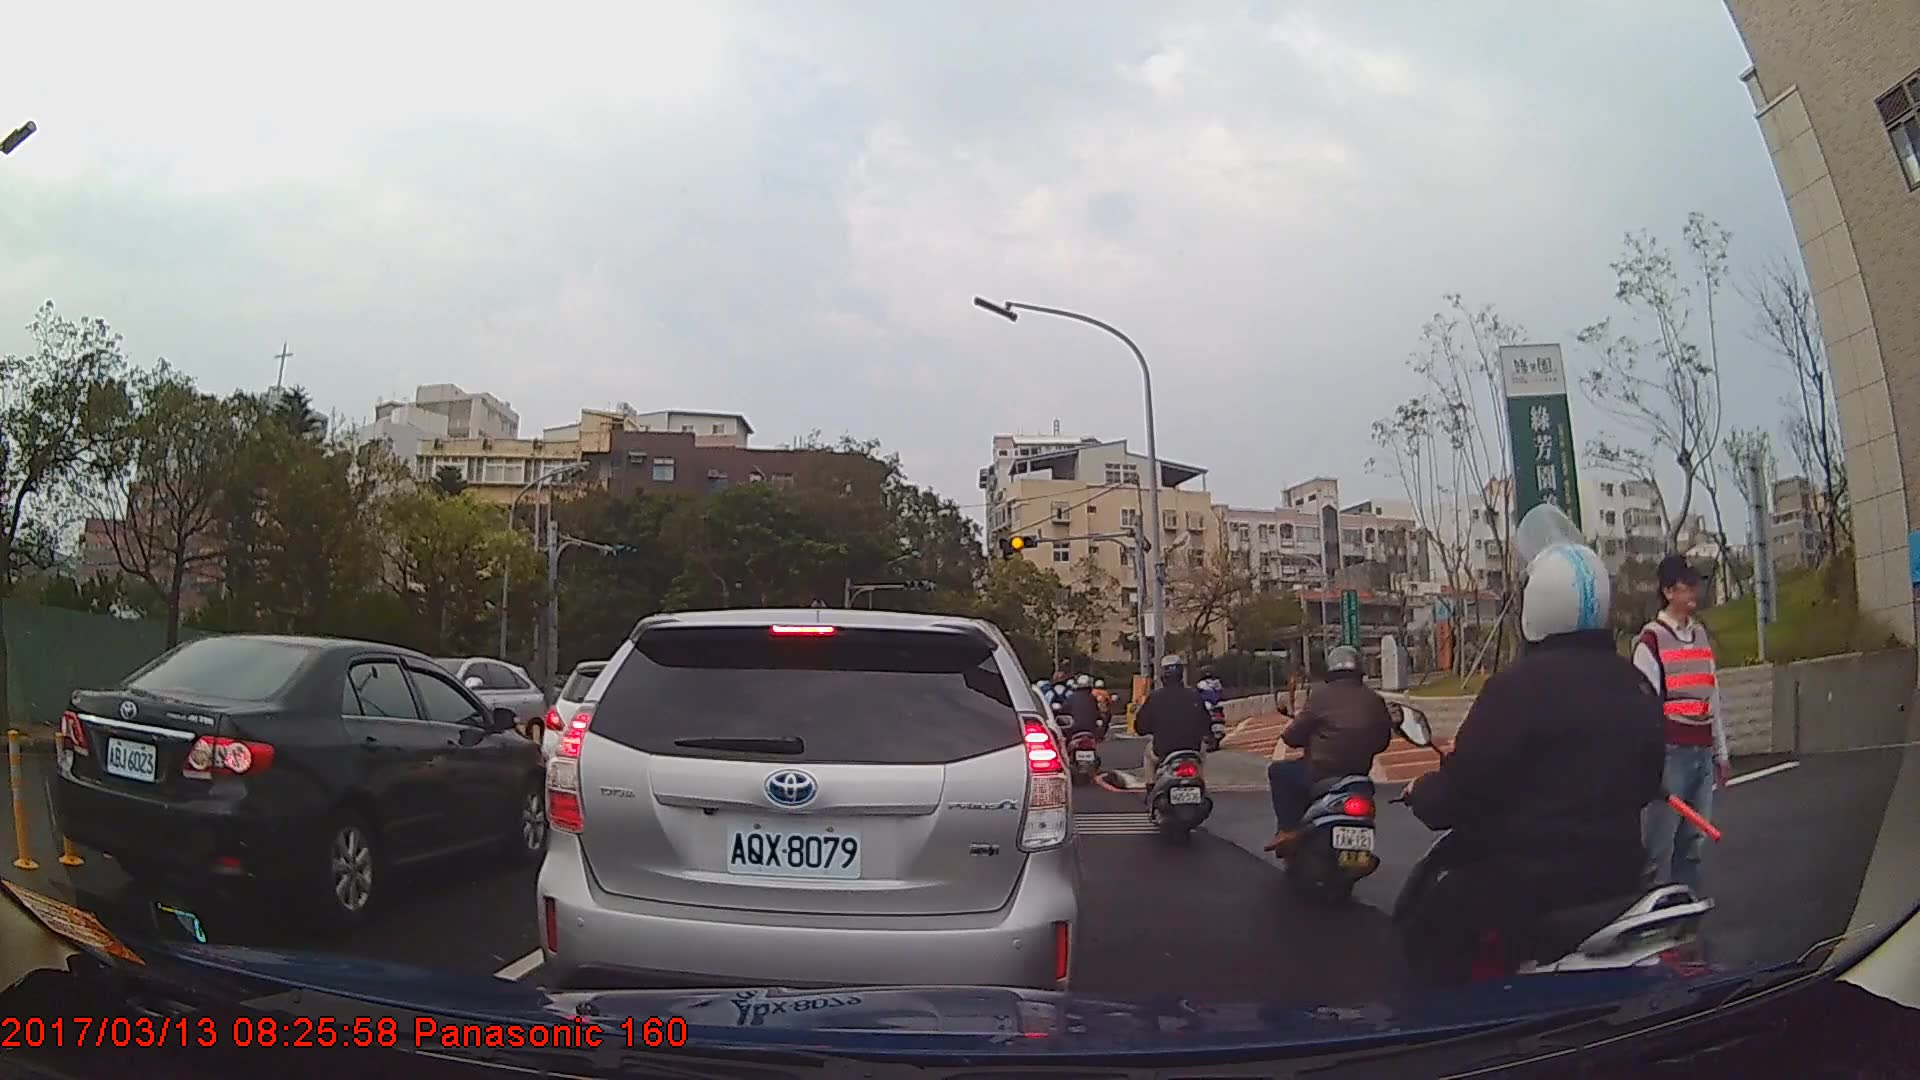pedestrian: (1629, 553, 1730, 955)
rider: (1387, 539, 1724, 1069), (1266, 644, 1393, 909), (1135, 649, 1216, 848), (1066, 674, 1105, 787), (1193, 664, 1228, 754), (1084, 676, 1116, 741)
vehicle: (535, 606, 1078, 1025), (55, 632, 554, 920), (407, 657, 544, 751)
